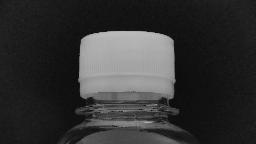Loose Cap: (70, 70, 184, 120)
